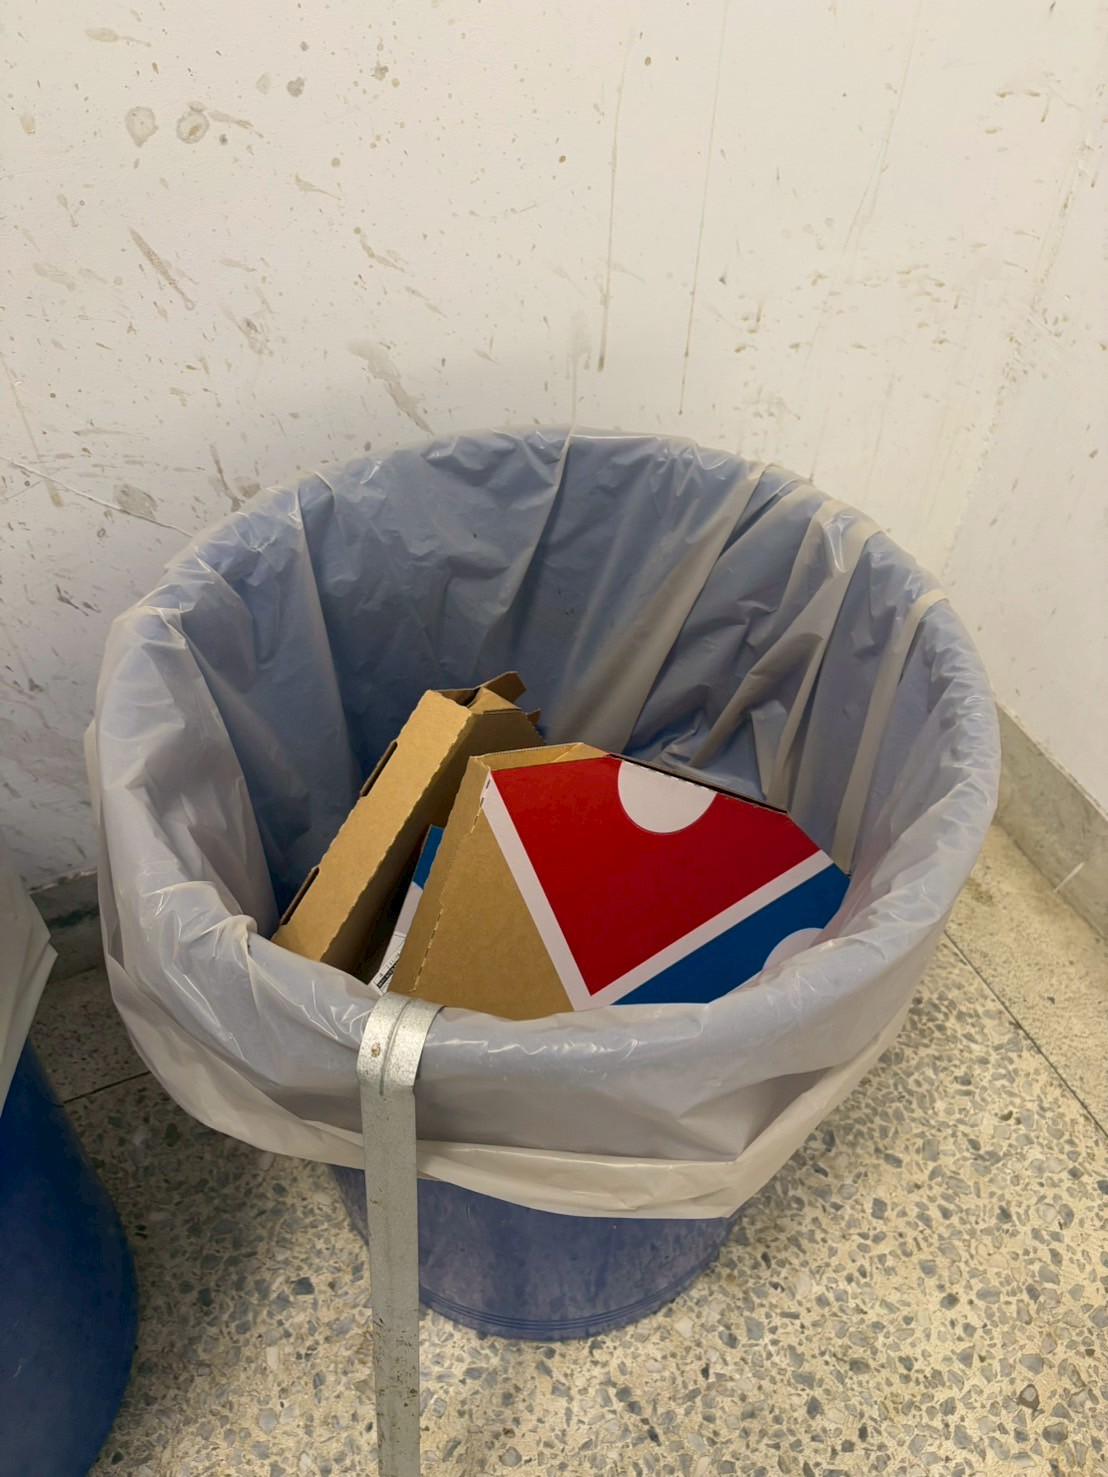overflow_bin: (78, 397, 1020, 1354)
